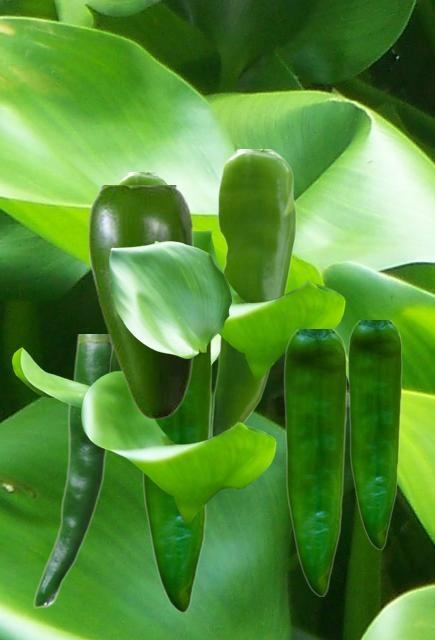green_chili: (89, 185, 194, 419), (211, 149, 295, 436), (32, 334, 111, 607), (141, 341, 211, 611), (283, 329, 346, 595), (347, 320, 401, 548), (109, 172, 168, 371)
